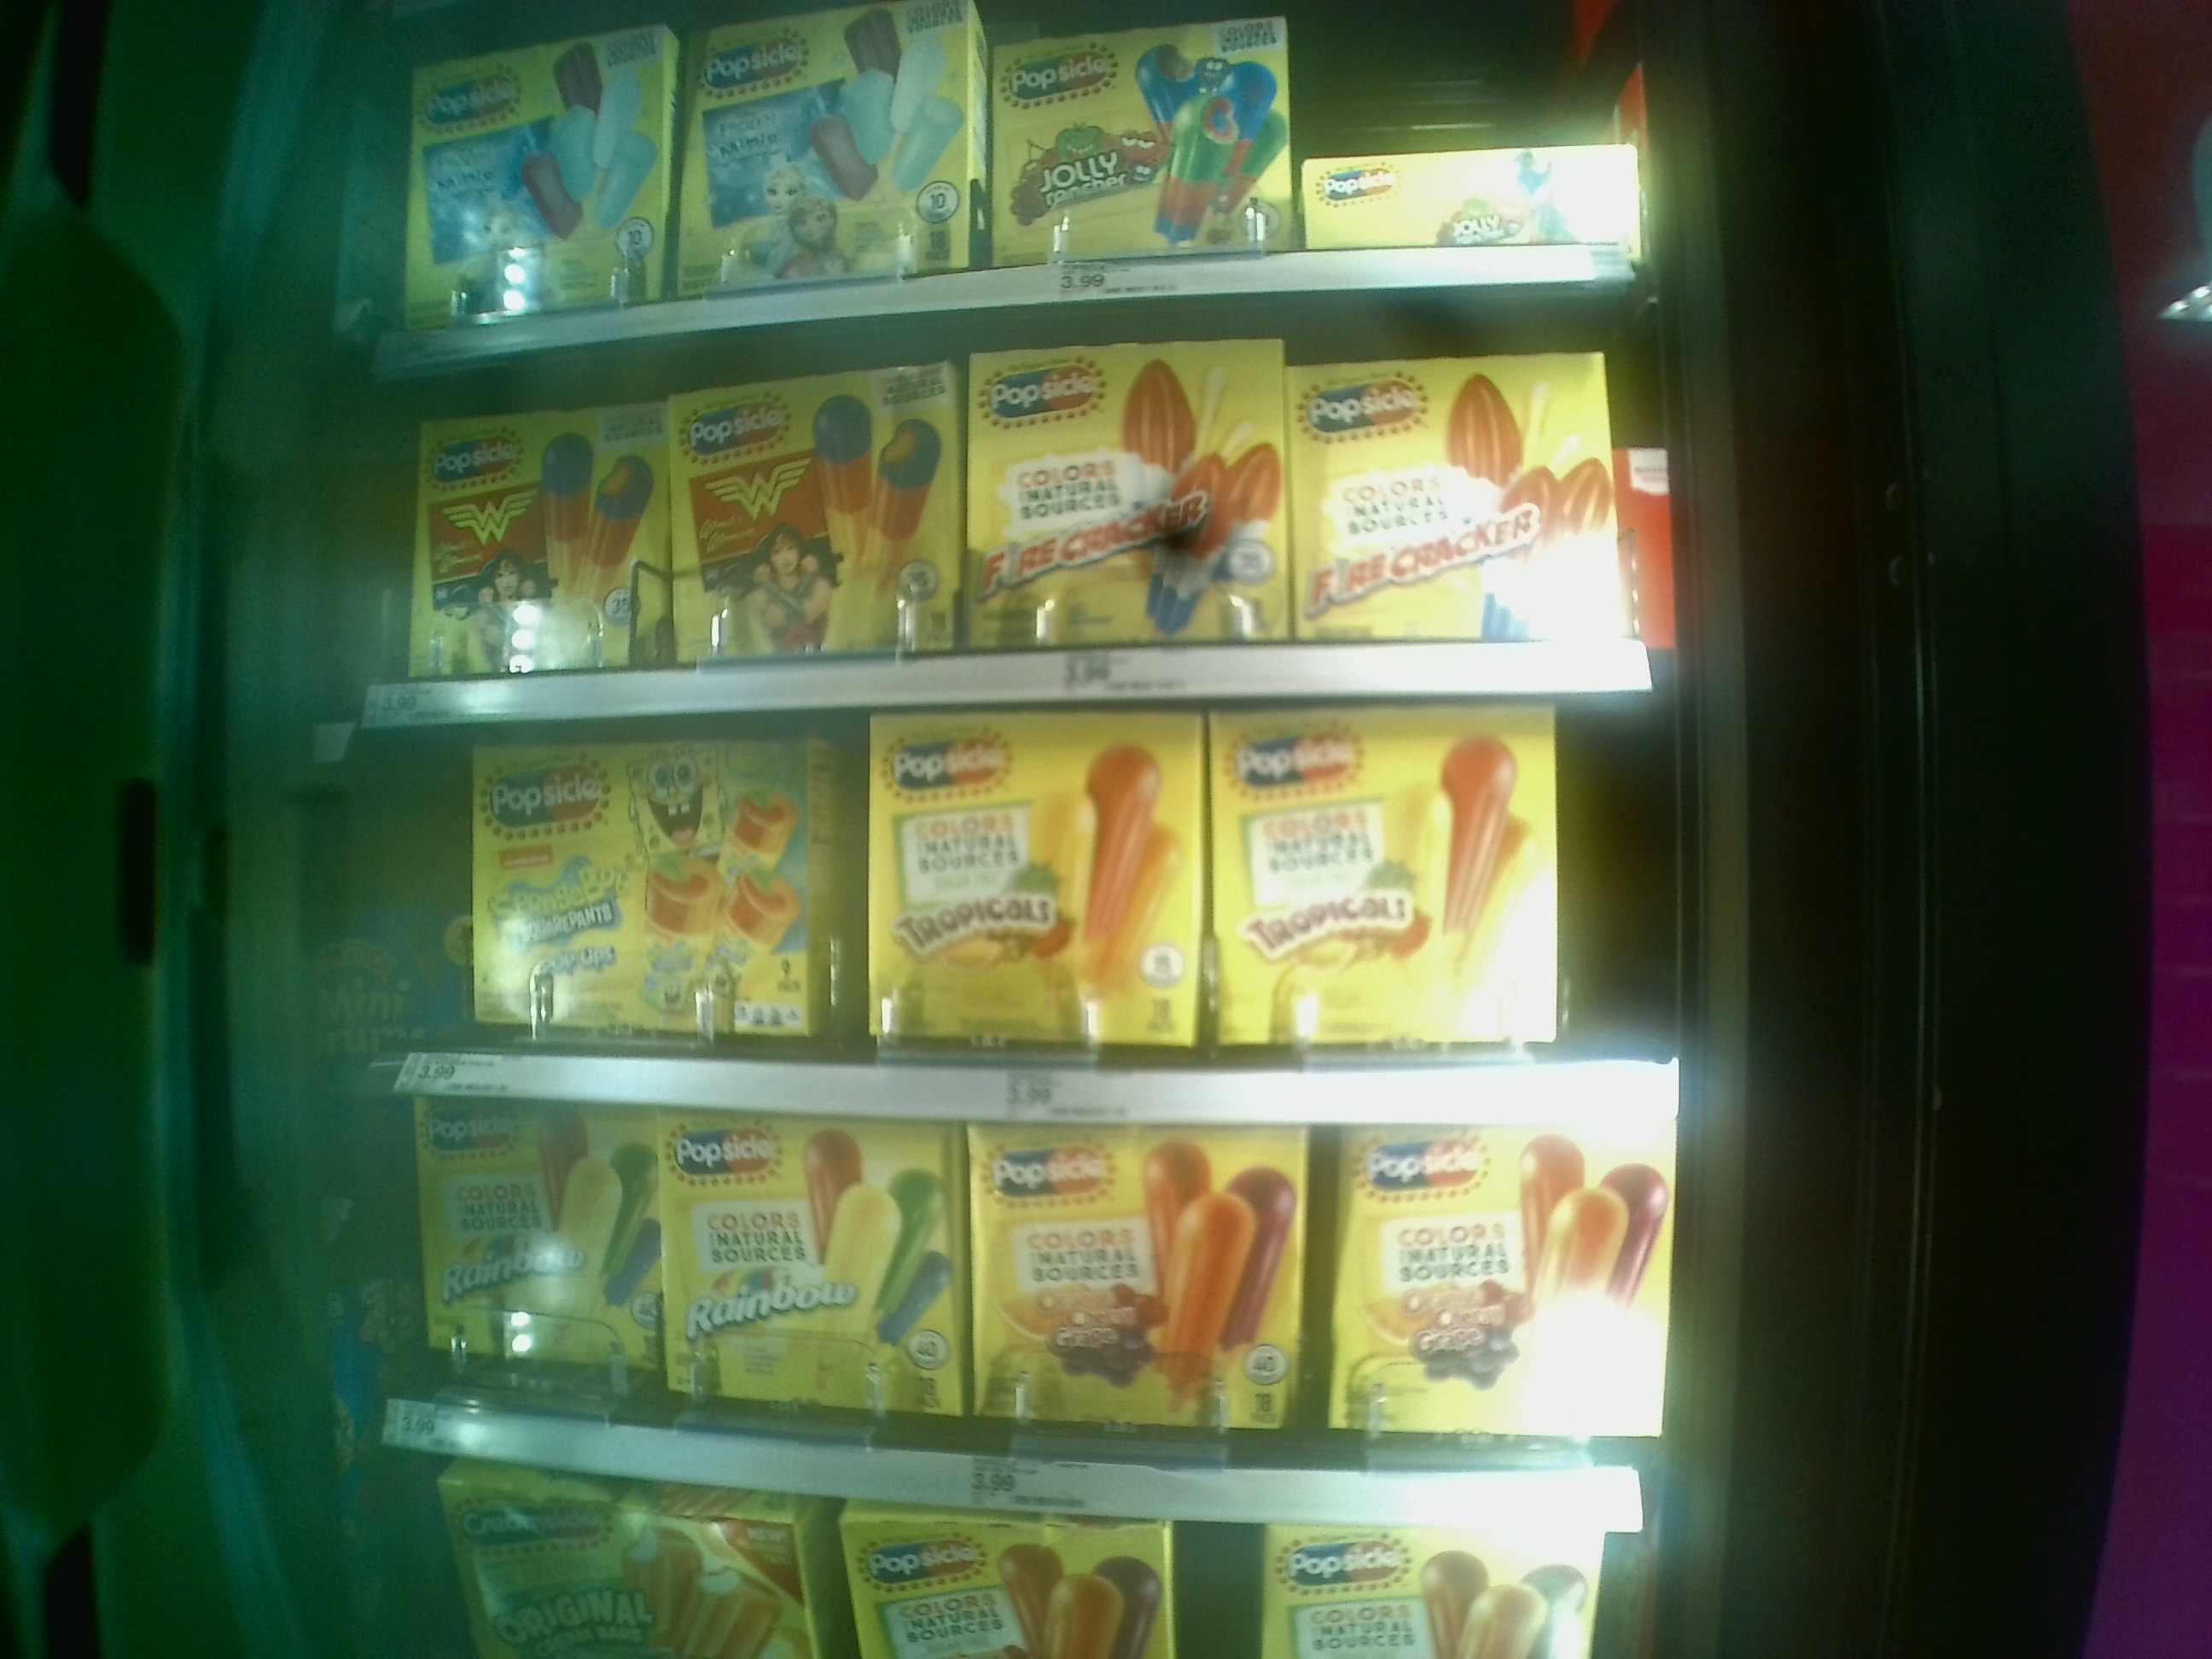shelf: (387, 1089, 1669, 1481), (409, 694, 1663, 1089)
